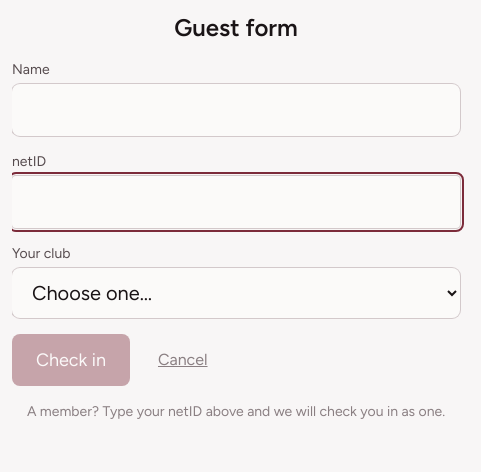
Test: GuestForm › REFUSES TO SUBMIT UNTIL A CLUB IS CHOSEN
In the field named "Guest netID": (236, 202) [12,176,460,228], type "ab1234"
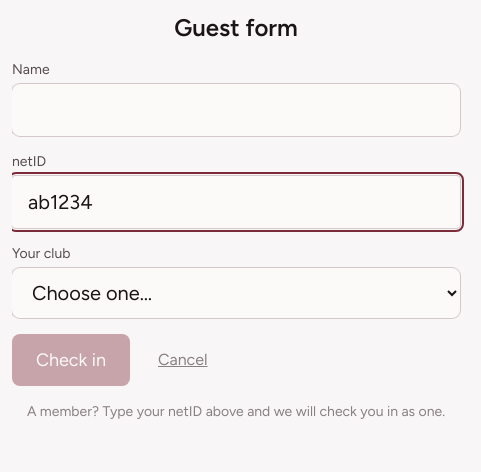
Click the button "Check in": click(71, 360) [12,334,130,386]
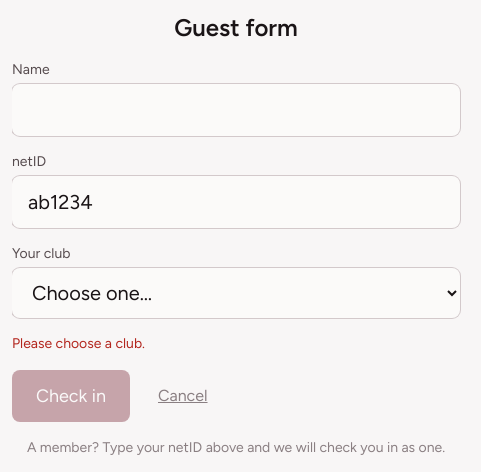
Expected: the message shows "choose a club", [12,335,145,352]
